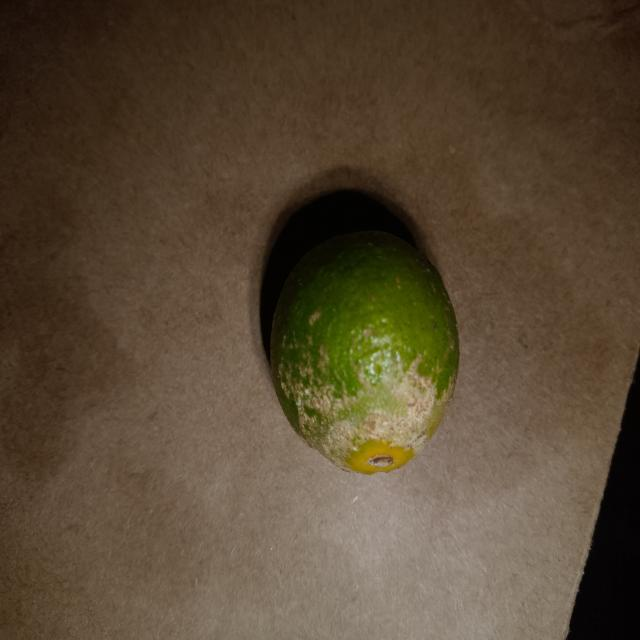thrips: (269, 242, 457, 474)
